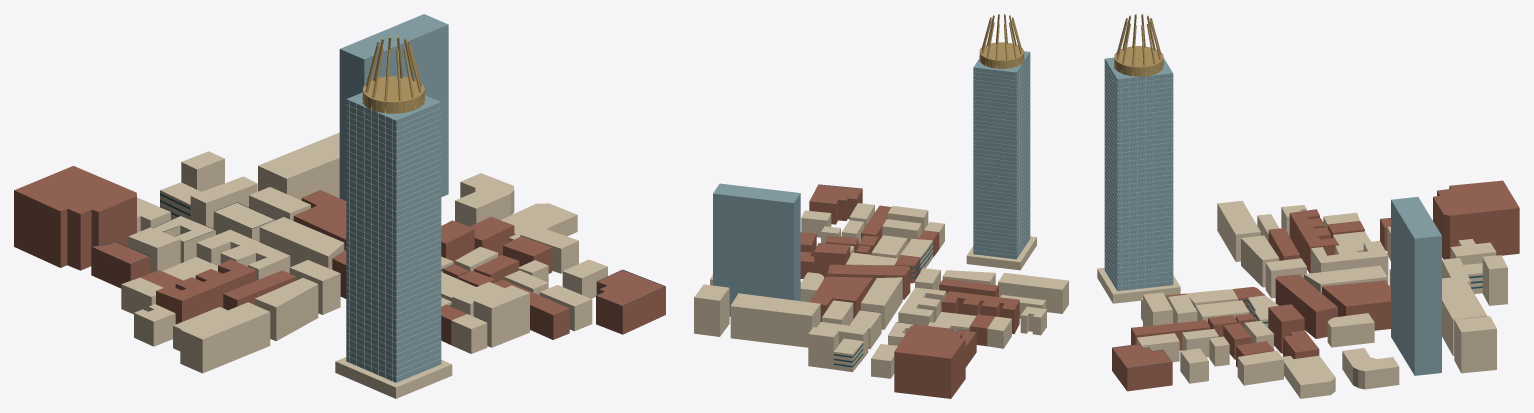
File: city_-3_-2.glb
3 views of the same model, side by side, from view 1: azimuth 30°, elevation 25°; view 2: azimuth 150°, elevation 25°; view 3: azimuth 270°, elevation 25° (orthographic). The views are drawn at different scales.
Parts seen in each view (by area): view 1: city_-3_-2; view 2: city_-3_-2; view 3: city_-3_-2.
Boxes of the visible parts, x1=… form: city_-3_-2: x1=14, y1=14, x2=665, y2=398; city_-3_-2: x1=694, y1=14, x2=1068, y2=398; city_-3_-2: x1=1097, y1=14, x2=1519, y2=398.
Bounding box in the file's own units: 277 × 199 × 285.
